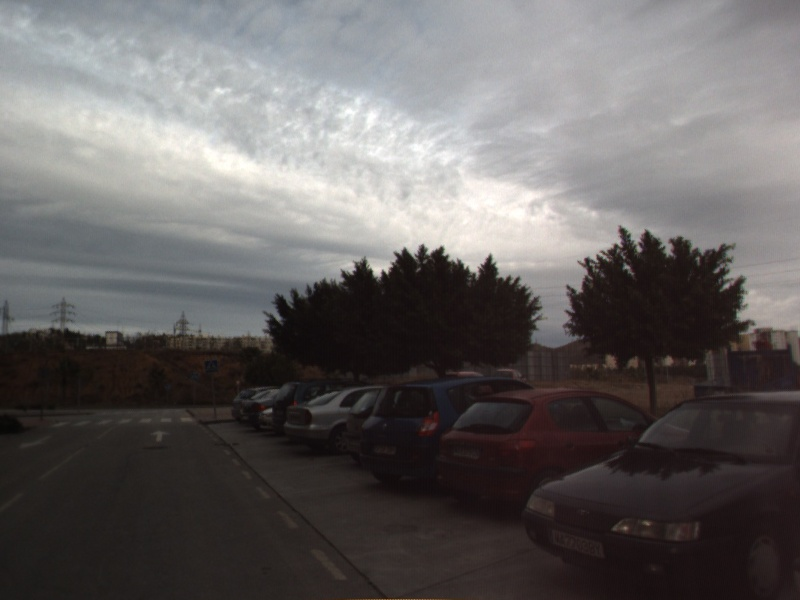STRAIGHT: (148, 428, 173, 444)
